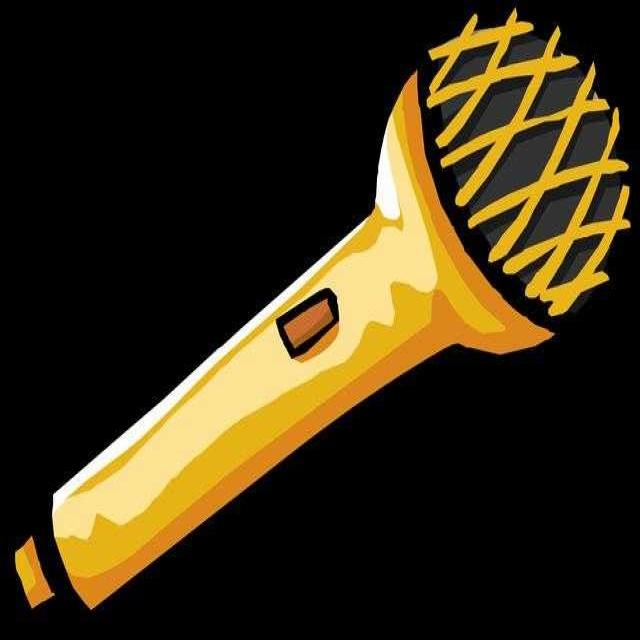microphone: (11, 20, 615, 616)
